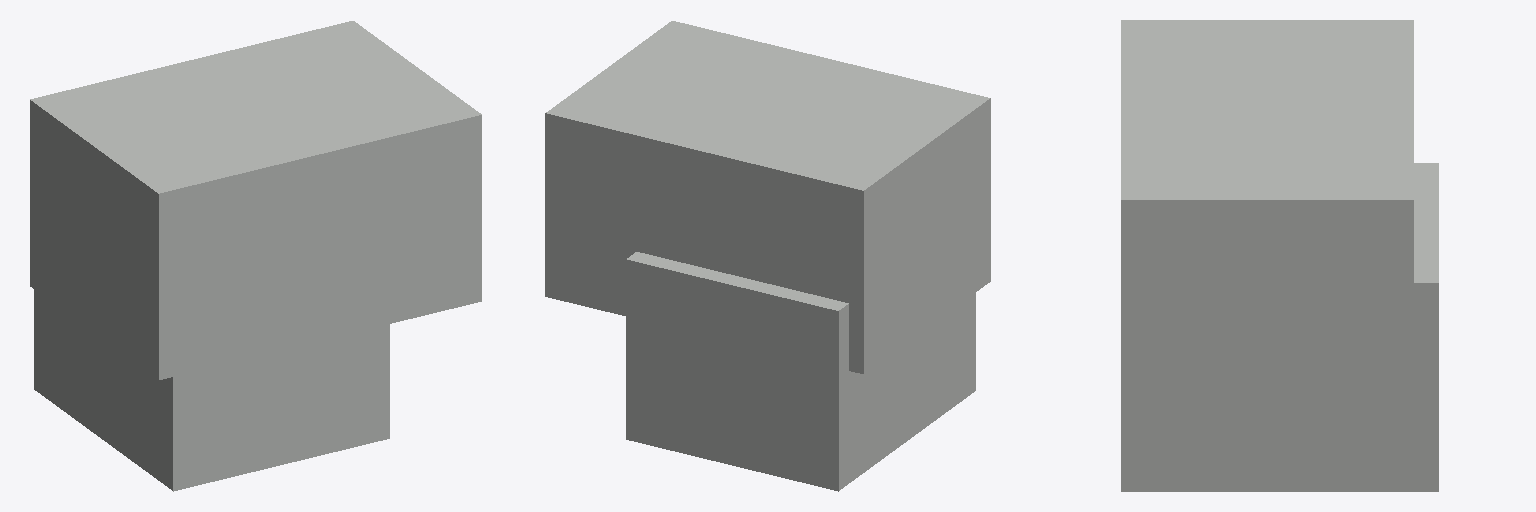
The robot description file, URDF, robot "abb_irb4600_40_255":
<?xml version="1.0" ?>
<!-- =================================================================================== -->
<!-- |    This document was autogenerated by xacro from abb_irb4600_40_255.xacro       | -->
<!-- |    EDITING THIS FILE BY HAND IS NOT RECOMMENDED                                 | -->
<!-- =================================================================================== -->
<robot name="abb_irb4600_40_255" xmlns:xacro="http://wiki.ros.org/xacro">
  <!-- Conversion were obtained from http://www.e-paint.co.uk/Lab_values.asp
       unless otherwise stated. -->
  <!-- link list -->
  <link name="base_link">
    <inertial>
      <origin xyz="0.0 0.0 0.0"/>
      <mass value="120.00000"/>
      <inertia ixx="-4.98000" ixy="-0.00000" ixz="2.70000" iyy="-5.95200" iyz="-0.00000" izz="0.82800"/>
    </inertial>
    <visual>
      <geometry>
        <mesh filename="package://abb_irb4600_40_255/meshes/visual/base_link.stl"/>
      </geometry>
      <material name="">
        <color rgba="0.7725490 0.7803922 0.7686275 1"/>
      </material>
    </visual>
    <collision>
      <geometry>
        <mesh filename="package://abb_irb4600_40_255/meshes/collision/base_link.stl"/>
      </geometry>
    </collision>
  </link>
  <link name="link_1">
    <inertial>
      <origin xyz="0.18000 0.00000 0.50000"/>
      <mass value="120.00000"/>
      <inertia ixx="-4.98000" ixy="-0.00000" ixz="2.70000" iyy="-5.95200" iyz="-0.00000" izz="0.82800"/>
    </inertial>
    <visual>
      <geometry>
        <mesh filename="package://abb_irb4600_40_255/meshes/visual/link_1.stl"/>
      </geometry>
      <material name="">
        <color rgba="0.7725490 0.7803922 0.7686275 1"/>
      </material>
    </visual>
    <collision>
      <geometry>
        <mesh filename="package://abb_irb4600_40_255/meshes/collision/link_1.stl"/>
      </geometry>
    </collision>
  </link>
  <link name="link_2">
    <inertial>
      <origin xyz="0.94000 0.08000 -0.34000"/>
      <mass value="120.00000"/>
      <inertia ixx="-2.96000" ixy="2.25600" ixz="-9.58800" iyy="-18.72601" iyz="-0.81600" izz="-14.95000"/>
    </inertial>
    <visual>
      <geometry>
        <mesh filename="package://abb_irb4600_40_255/meshes/visual/link_2.stl"/>
      </geometry>
      <material name="">
        <color rgba="0.7725490 0.7803922 0.7686275 1"/>
      </material>
    </visual>
    <collision>
      <geometry>
        <mesh filename="package://abb_irb4600_40_255/meshes/collision/link_2.stl"/>
      </geometry>
    </collision>
  </link>
  <link name="link_3">
    <inertial>
      <origin xyz="0.07000 -0.26600 0.08800"/>
      <mass value="120.00000"/>
      <inertia ixx="1.34500" ixy="-0.55860" ixz="0.18480" iyy="4.65068" iyz="-0.70224" izz="2.76032"/>
    </inertial>
    <visual>
      <geometry>
        <mesh filename="package://abb_irb4600_40_255/meshes/visual/link_3.stl"/>
      </geometry>
      <material name="">
        <color rgba="0.7725490 0.7803922 0.7686275 1"/>
      </material>
    </visual>
    <collision>
      <geometry>
        <mesh filename="package://abb_irb4600_40_255/meshes/collision/link_3.stl"/>
      </geometry>
    </collision>
  </link>
  <link name="link_4">
    <inertial>
      <origin xyz="0.00000 0.00000 1.00000"/>
      <mass value="40.00000"/>
      <inertia ixx="-8.00000" ixy="-0.00000" ixz="-0.00000" iyy="-8.00000" iyz="-0.00000" izz="0.48200"/>
    </inertial>
    <visual>
      <geometry>
        <mesh filename="package://abb_irb4600_40_255/meshes/visual/link_4.stl"/>
      </geometry>
      <material name="">
        <color rgba="0.7725490 0.7803922 0.7686275 1"/>
      </material>
    </visual>
    <collision>
      <geometry>
        <mesh filename="package://abb_irb4600_40_255/meshes/collision/link_4.stl"/>
      </geometry>
    </collision>
  </link>
  <link name="link_5">
    <inertial>
      <origin xyz="0.14000 0.00000 0.00000"/>
      <mass value="10.00000"/>
      <inertia ixx="0.04000" ixy="-0.00000" ixz="-0.00000" iyy="-0.00900" iyz="-0.00000" izz="-0.00400"/>
    </inertial>
    <visual>
      <geometry>
        <mesh filename="package://abb_irb4600_40_255/meshes/visual/link_5.stl"/>
      </geometry>
      <material name="">
        <color rgba="0.7725490 0.7803922 0.7686275 1"/>
      </material>
    </visual>
    <collision>
      <geometry>
        <mesh filename="package://abb_irb4600_40_255/meshes/collision/link_5.stl"/>
      </geometry>
    </collision>
  </link>
  <link name="link_6">
    <inertial>
      <origin xyz="0.08100 -0.09100 0.33200"/>
      <mass value="5.00000"/>
      <inertia ixx="-0.29652" ixy="-0.03686" ixz="0.09396" iyy="-0.28792" iyz="-0.10556" izz="-0.04621"/>
    </inertial>
    <visual>
      <geometry>
        <mesh filename="package://abb_irb4600_40_255/meshes/visual/link_6.stl"/>
      </geometry>
      <material name="">
        <color rgba="0.1882353 0.1960784 0.2039216 1"/>
      </material>
    </visual>
    <collision>
      <geometry>
        <mesh filename="package://abb_irb4600_40_255/meshes/collision/link_6.stl"/>
      </geometry>
    </collision>
  </link>
  <link name="tool0"/>
  <!-- end of link list -->
  <!-- joint list -->
  <joint name="joint_1" type="revolute">
    <parent link="base_link"/>
    <child link="link_1"/>
    <origin rpy="0 0 0 " xyz="0 0 0"/>
    <axis xyz="0 0 1"/>
    <limit effort="100000" lower="-3.14159" upper="3.14159" velocity="2.618"/>
    <dynamics damping="0.2" friction="0"/>
  </joint>
  <joint name="joint_2" type="revolute">
    <parent link="link_1"/>
    <child link="link_2"/>
    <origin rpy="0 -0 0 " xyz="0.175 0 0.495"/>
    <axis xyz="0 1 0"/>
    <limit effort="100000" lower="-1.5708" upper="2.61799" velocity="2.618"/>
    <dynamics damping="0.2" friction="0"/>
  </joint>
  <joint name="joint_3" type="revolute">
    <parent link="link_2"/>
    <child link="link_3"/>
    <origin rpy="0 -0 0 " xyz="0 0 1.095"/>
    <axis xyz="0 1 0"/>
    <limit effort="100000" lower="-3.14159" upper="1.309" velocity="2.618"/>
    <dynamics damping="0.2" friction="0"/>
  </joint>
  <joint name="joint_4" type="revolute">
    <parent link="link_3"/>
    <child link="link_4"/>
    <origin rpy="0 -0 0 " xyz="0.331 0 0.175"/>
    <axis xyz="1 0 0"/>
    <limit effort="10000" lower="-6.98132" upper="6.98132" velocity="6.2832"/>
    <dynamics damping="0.2" friction="0"/>
  </joint>
  <joint name="joint_5" type="revolute">
    <parent link="link_4"/>
    <child link="link_5"/>
    <origin rpy="0 -0 0 " xyz="0.939 0 0"/>
    <axis xyz="0 1 0"/>
    <limit effort="100000" lower="-2.18166" upper="2.0944" velocity="6.2832"/>
    <dynamics damping="0.2" friction="0"/>
  </joint>
  <joint name="joint_6" type="revolute">
    <parent link="link_5"/>
    <child link="link_6"/>
    <origin rpy="0 1.57076 0 " xyz="0.135 0 0"/>
    <axis xyz="0 0 1"/>
    <limit effort="100000" lower="-6.98132" upper="6.98132" velocity="7.854"/>
    <dynamics damping="0.2" friction="0"/>
  </joint>
  <joint name="joint_6-tool0" type="fixed">
    <parent link="link_6"/>
    <child link="tool0"/>
    <origin rpy="0 0 0" xyz="0 0 0"/>
  </joint>
  <!-- end of joint list -->
  <!-- ROS base_link to ABB World Coordinates transform -->
  <link name="base"/>
  <joint name="base_link-base" type="fixed">
    <origin rpy="0 0 0" xyz="0 0 0"/>
    <parent link="base_link"/>
    <child link="base"/>
  </joint>
</robot>

--- What the picture shows (computed from the rendered views, not written in the file) ---
The picture shows the robot from 3 angles, left to right: view 1: azimuth 30°, elevation 25°; view 2: azimuth 150°, elevation 25°; view 3: azimuth 270°, elevation 25°; orthographic projection.
Robot: abb_irb4600_40_255 — 9 links, 8 joints (6 revolute, 2 fixed); root link base_link; default pose: every joint at zero.
Visible links, largest first — view 1: link_3; view 2: link_3; view 3: link_3.
Boxes of the visible links, x1,y1,x2,y2 form: link_3: [30, 21, 481, 491]; link_3: [545, 21, 990, 491]; link_3: [1121, 20, 1438, 491].
Bounding box of the posed robot: 0.5336 × 0.3986 × 0.4747 m (x, y, z).
Meshes: 7 distinct files referenced, 1 mesh visuals loaded (1 binary STL); not drawn: 6 (reference not matched to a file when rendering).